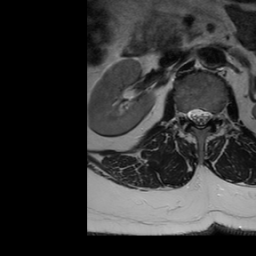CCS_normal: (195, 101, 203, 135)
LFS_stenosis: (211, 103, 220, 127)
LLS_stenosis: (203, 103, 211, 127)
RFS_normal: (180, 103, 187, 127)
RLS_normal: (187, 102, 195, 127)
